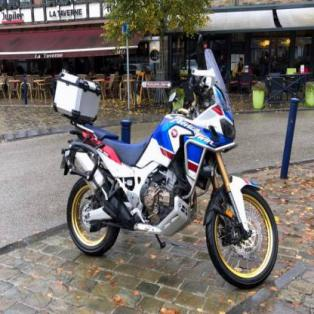Motocicleta: (44, 45, 281, 287)
